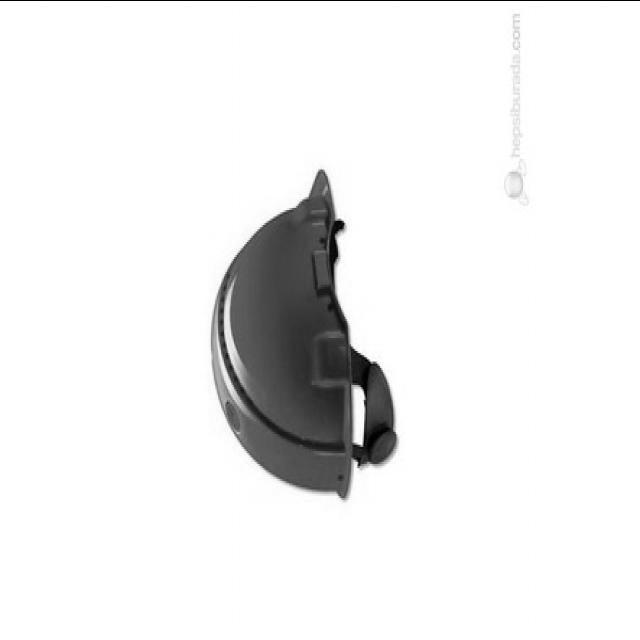construction helmet: (211, 166, 400, 501)
